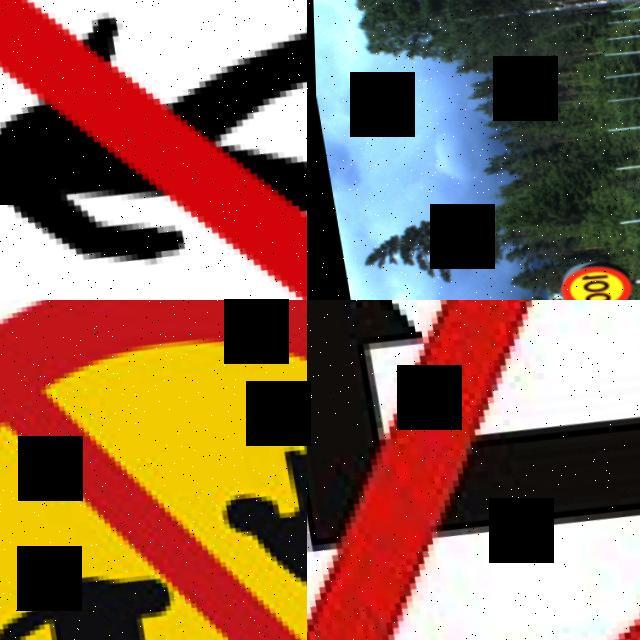55: (546, 252, 636, 300)
No Left turn: (307, 300, 640, 640)
No entry for motor vehicles: (0, 300, 307, 640)
No entry for pedestrians: (0, 0, 307, 300)
